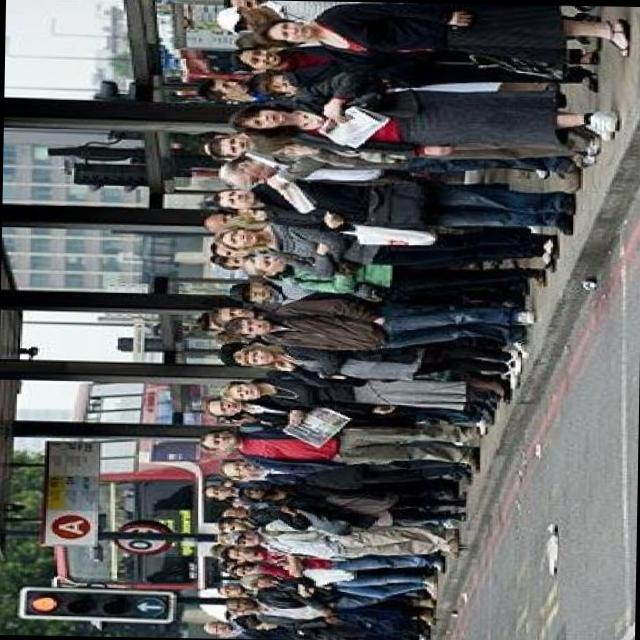bareface: (218, 187, 258, 208), (234, 166, 278, 184), (242, 109, 286, 126), (276, 21, 318, 38), (230, 8, 264, 27), (215, 77, 249, 96), (240, 282, 272, 302), (246, 49, 282, 66), (237, 483, 273, 500), (226, 228, 260, 245), (238, 318, 274, 334), (208, 400, 245, 415), (252, 254, 286, 270), (216, 304, 253, 318), (204, 432, 236, 448), (228, 382, 256, 400), (224, 460, 260, 473), (244, 349, 273, 364), (218, 137, 252, 149), (232, 530, 258, 544), (231, 596, 257, 610), (210, 622, 234, 634), (232, 548, 256, 558), (208, 486, 230, 496), (220, 584, 242, 594)
